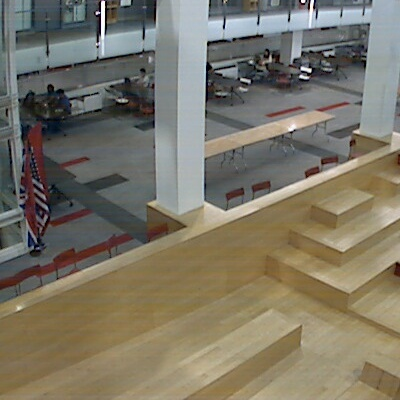head: (45, 82, 56, 93), (138, 67, 149, 78), (261, 47, 272, 58), (56, 89, 66, 99)
